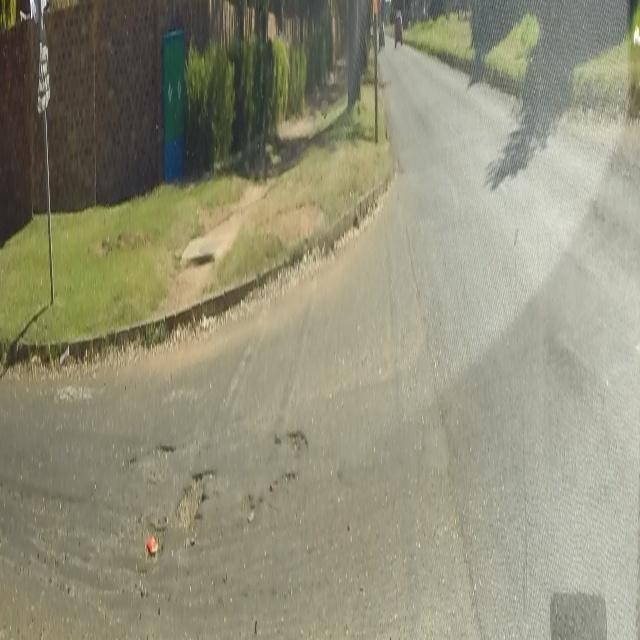pothole: (174, 460, 219, 546), (284, 422, 308, 449), (155, 436, 174, 468), (240, 486, 258, 518), (280, 464, 295, 484)
